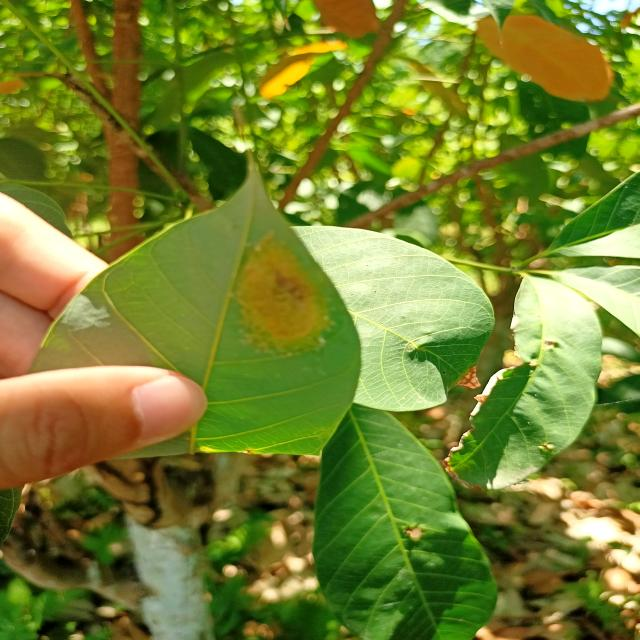Leaf-Blight: (454, 366, 480, 388)
